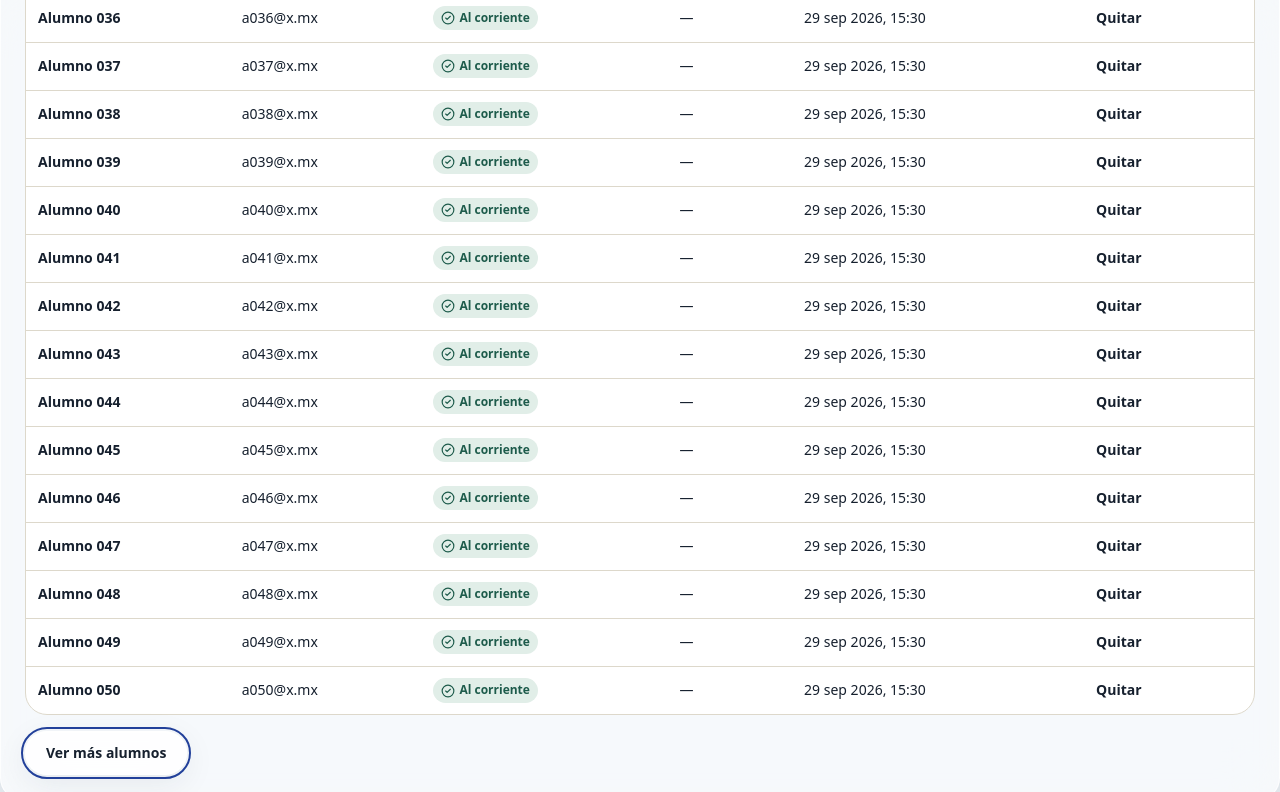
Test: ataque CLASES-b r4: T-26 en el roster y en personas › alumnos: si la última página llega vacía, el foco va al encabezado «Alumnos»
This screenshot has width=1280, height=792.
(page scrolled)
Click the button "Ver más alumnos": {"x": 106, "y": 753} [25, 731, 187, 775]
(page scrolled)
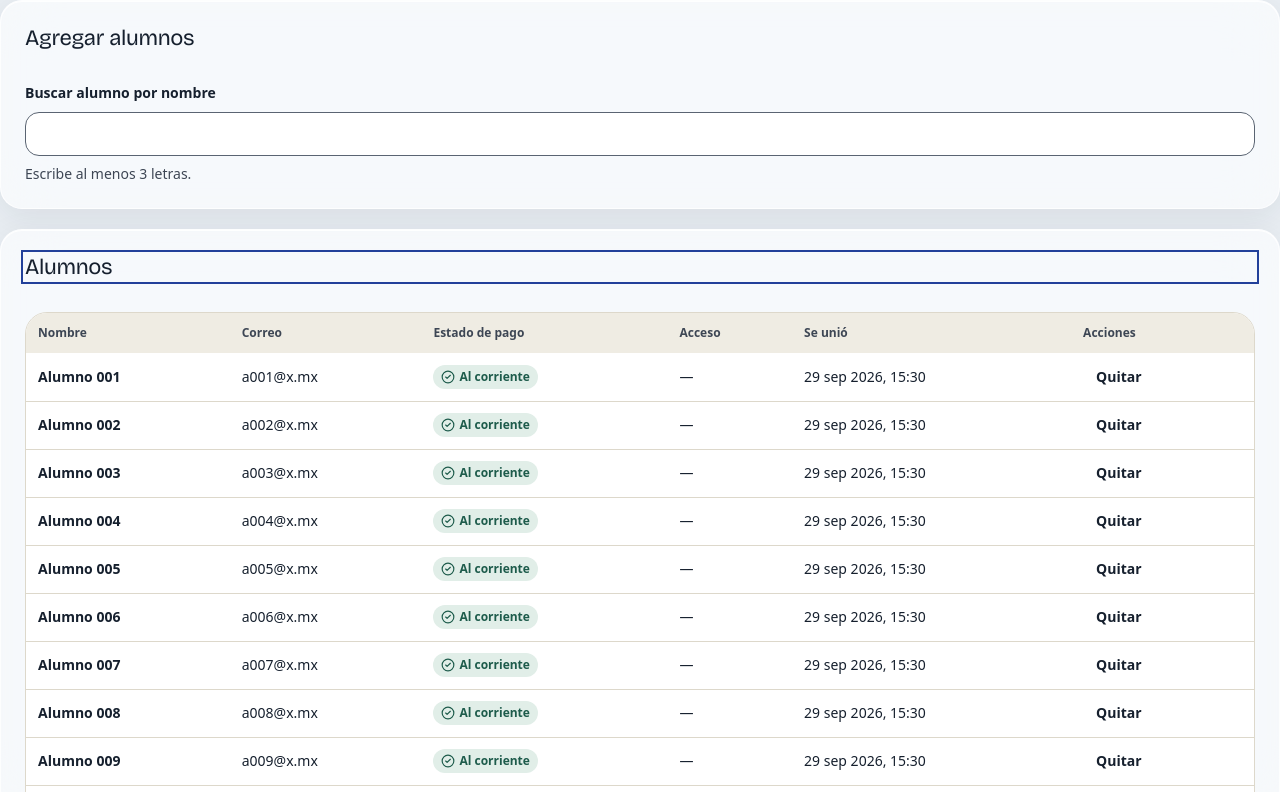
Now the button "Ver más alumnos" is gone
